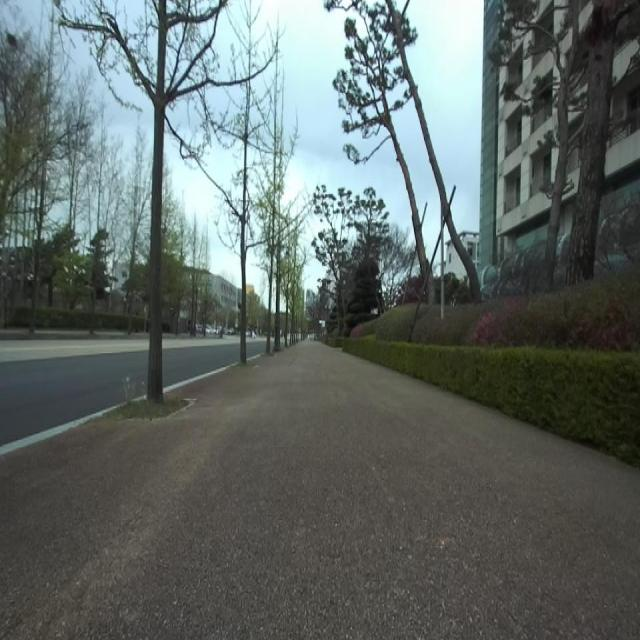sidewalk: (0, 341, 640, 639)
